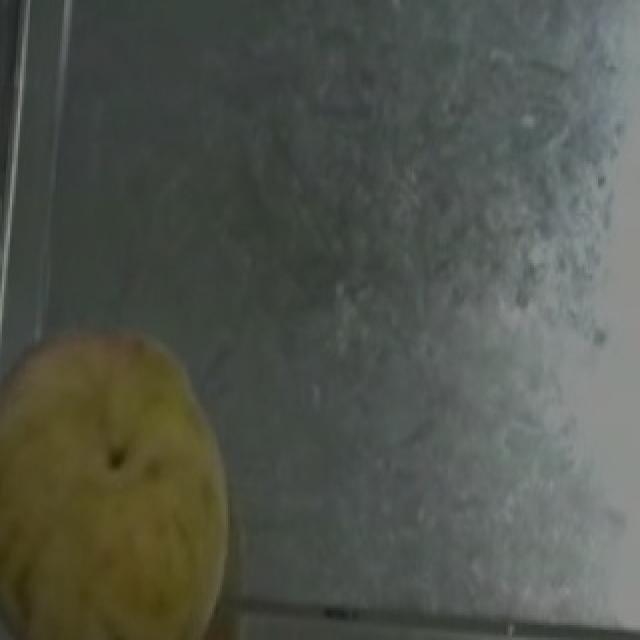Fruit: (0, 310, 262, 640)
